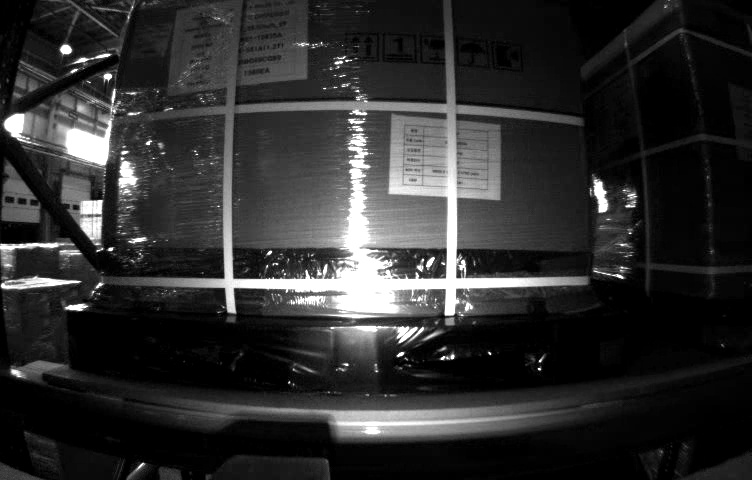True Barcode: (133, 26, 168, 57)
